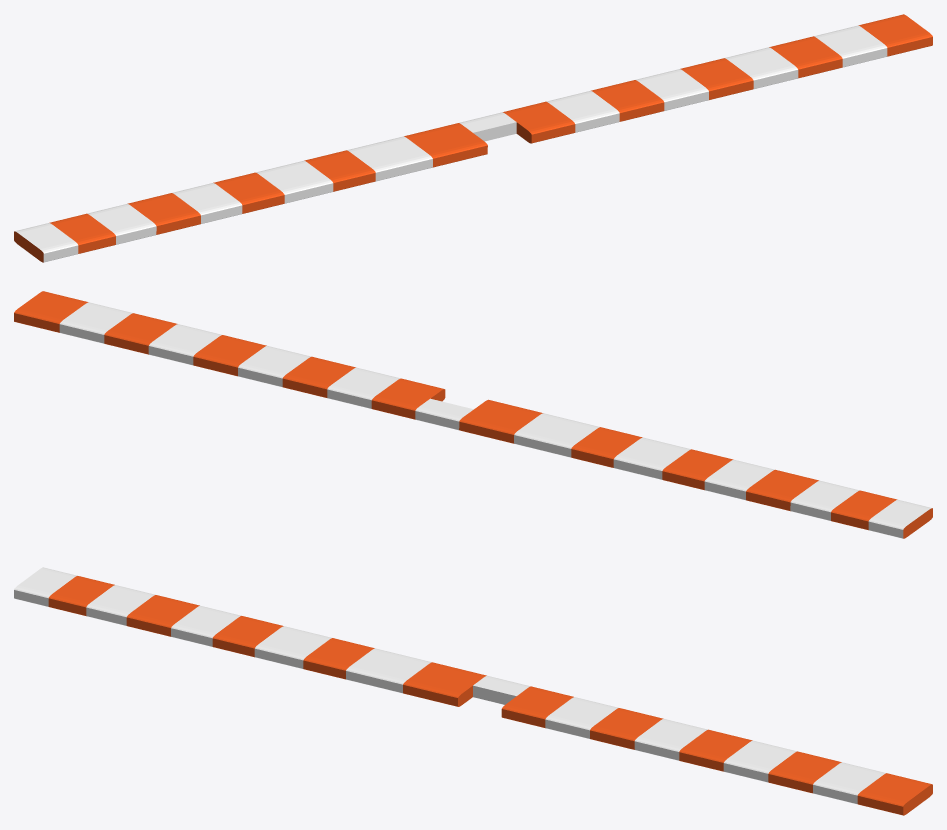
File: track .fbx
3 views of the same model, one above another, from view 1: azimuth 30°, elevation 25°; view 2: azimuth 150°, elevation 25°; view 3: azimuth 330°, elevation 25° (orthographic).
Visible parts, largest first — view 1: Cube.001; view 2: Cube.001; view 3: Cube.001.
Boxes of the visible parts, x1=… form: Cube.001: x1=14, y1=14, x2=932, y2=262; Cube.001: x1=14, y1=291, x2=932, y2=538; Cube.001: x1=14, y1=567, x2=932, y2=815.
Bounding box in the file's own units: 16074 × 204 × 934.
1 material, 1 textured.
